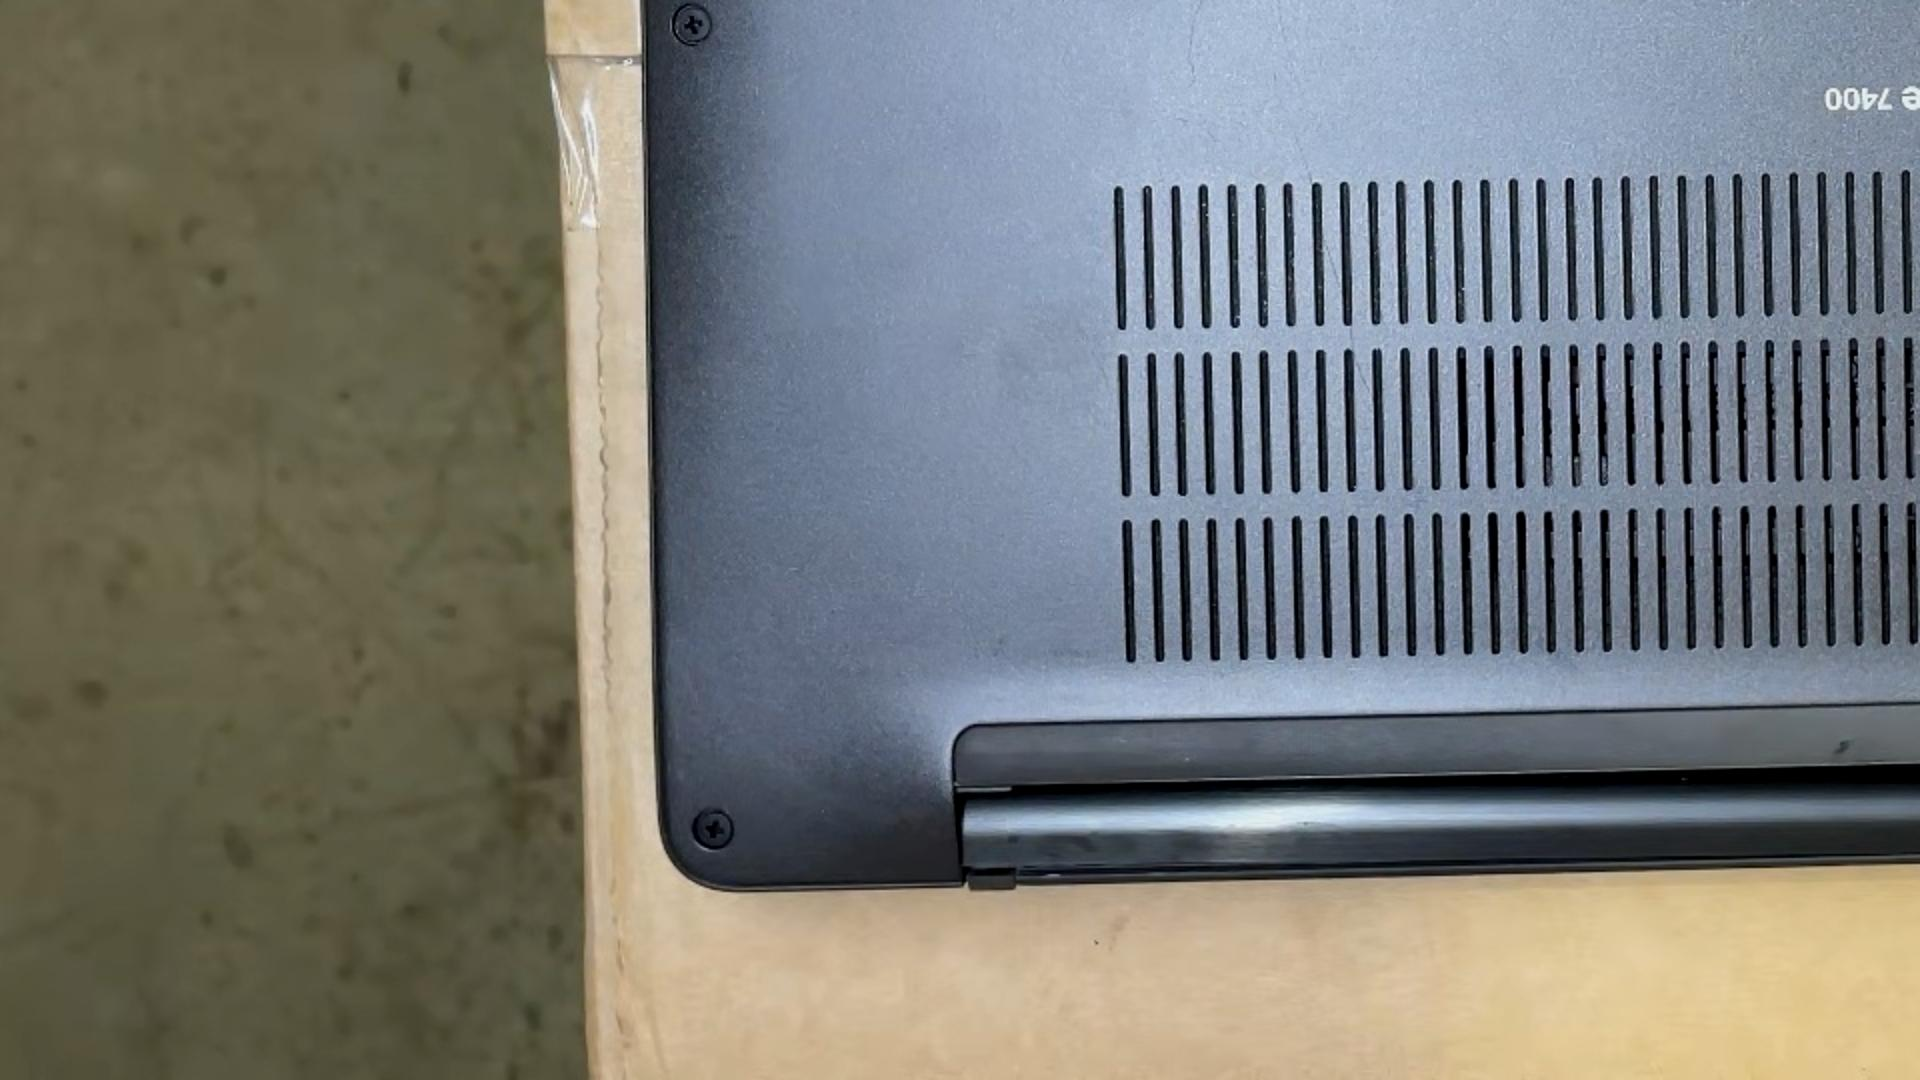scratches: (1184, 0, 1207, 91), (1349, 326, 1373, 397), (1292, 132, 1315, 186), (1323, 231, 1342, 291), (1275, 0, 1291, 71)
